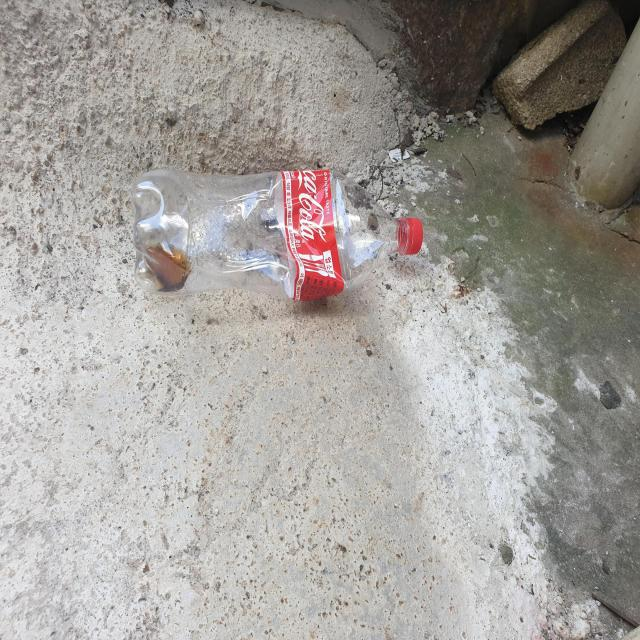plastic: (131, 169, 423, 300)
